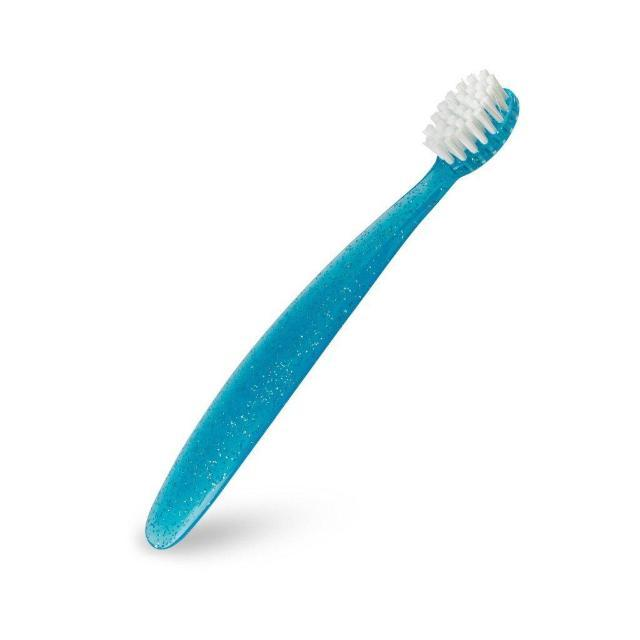toothbrush: (50, 58, 518, 566)
